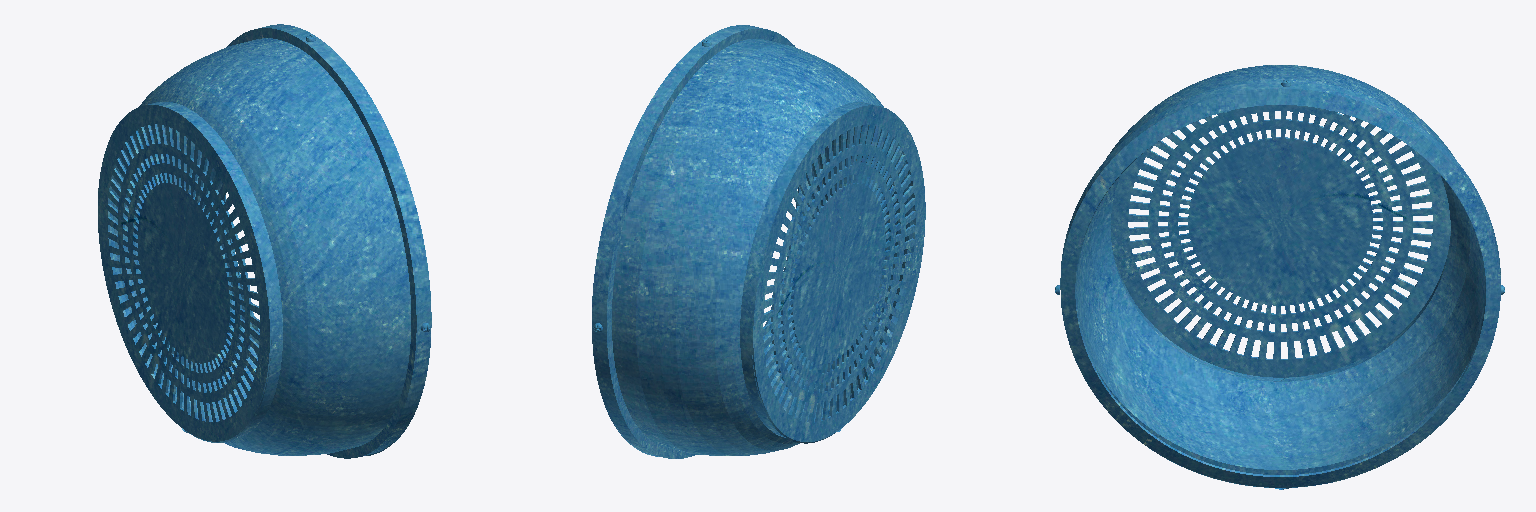
The picture shows the model from 3 angles: view 1: azimuth 30°, elevation 25°; view 2: azimuth 150°, elevation 25°; view 3: azimuth 270°, elevation 25°; orthographic projection.
Visible parts, largest first — view 1: Cylinder.034_Cylinder.035; view 2: Cylinder.034_Cylinder.035; view 3: Cylinder.034_Cylinder.035.
Part boxes in pixels (x1,y1,x2,y2): Cylinder.034_Cylinder.035: (98,24,431,458); Cylinder.034_Cylinder.035: (592,25,925,458); Cylinder.034_Cylinder.035: (1055,65,1504,489).
Bounding box in the file's own units: 0.0476 × 0.1291 × 0.1291.
1 materials, 1 textured.